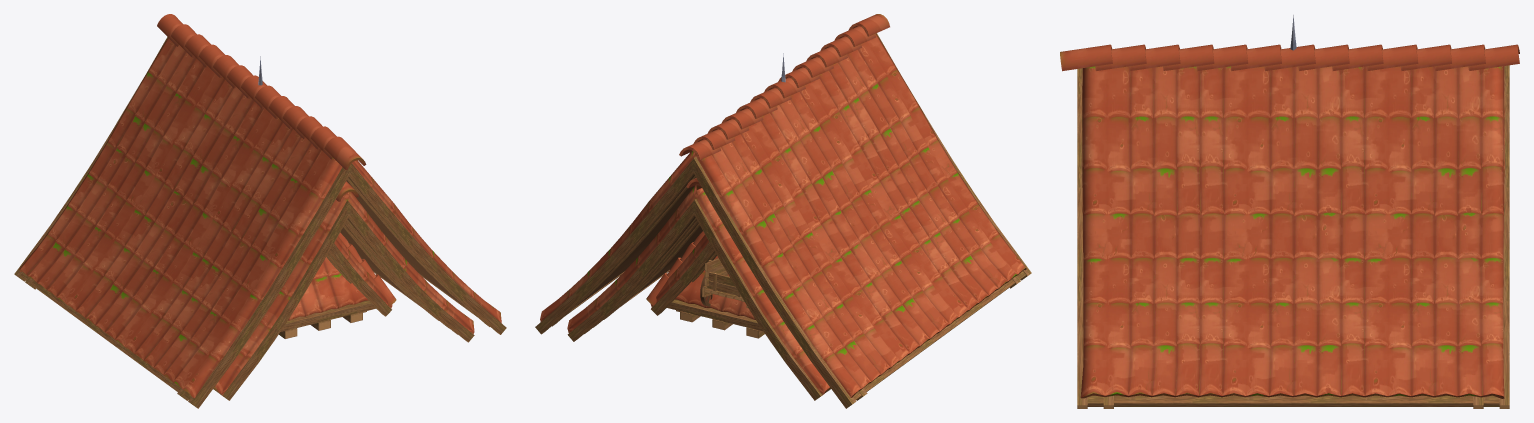
Rendered from village.glb.
3 views of the same model, side by side, from view 1: azimuth 30°, elevation 25°; view 2: azimuth 150°, elevation 25°; view 3: azimuth 270°, elevation 25° (orthographic). The views are drawn at different scales.
Parts seen in each view (by area): view 1: Roof_RoundTiles_8x8, Roof_RoundTiles_6x8, Roof_Tower_RoundTiles, Roof_RoundTiles_4x4, Roof_RoundTiles_6x6; view 2: Roof_RoundTiles_8x8, Roof_RoundTiles_6x8, Roof_Tower_RoundTiles, Roof_RoundTiles_4x4, Prop_Wagon, Roof_RoundTiles_6x6; view 3: Roof_RoundTiles_8x8.
Boxes of the visible parts, left/top/right/bottom form: Roof_RoundTiles_8x8: left=14, top=14, right=506, bottom=408; Roof_RoundTiles_6x8: left=213, top=181, right=474, bottom=400; Roof_Tower_RoundTiles: left=258, top=56, right=396, bottom=338; Roof_RoundTiles_4x4: left=326, top=236, right=392, bottom=316; Roof_RoundTiles_6x6: left=340, top=222, right=449, bottom=328; Roof_RoundTiles_8x8: left=535, top=14, right=1031, bottom=408; Roof_RoundTiles_6x8: left=567, top=178, right=830, bottom=400; Roof_Tower_RoundTiles: left=646, top=53, right=785, bottom=338; Roof_RoundTiles_4x4: left=650, top=235, right=716, bottom=315; Prop_Wagon: left=700, top=258, right=748, bottom=308; Roof_RoundTiles_6x6: left=593, top=220, right=702, bottom=327; Roof_RoundTiles_8x8: left=1060, top=44, right=1519, bottom=408.
Size of the model in its own units: 9.95 by 8.91 by 10.33.
9 materials, 8 textured.
